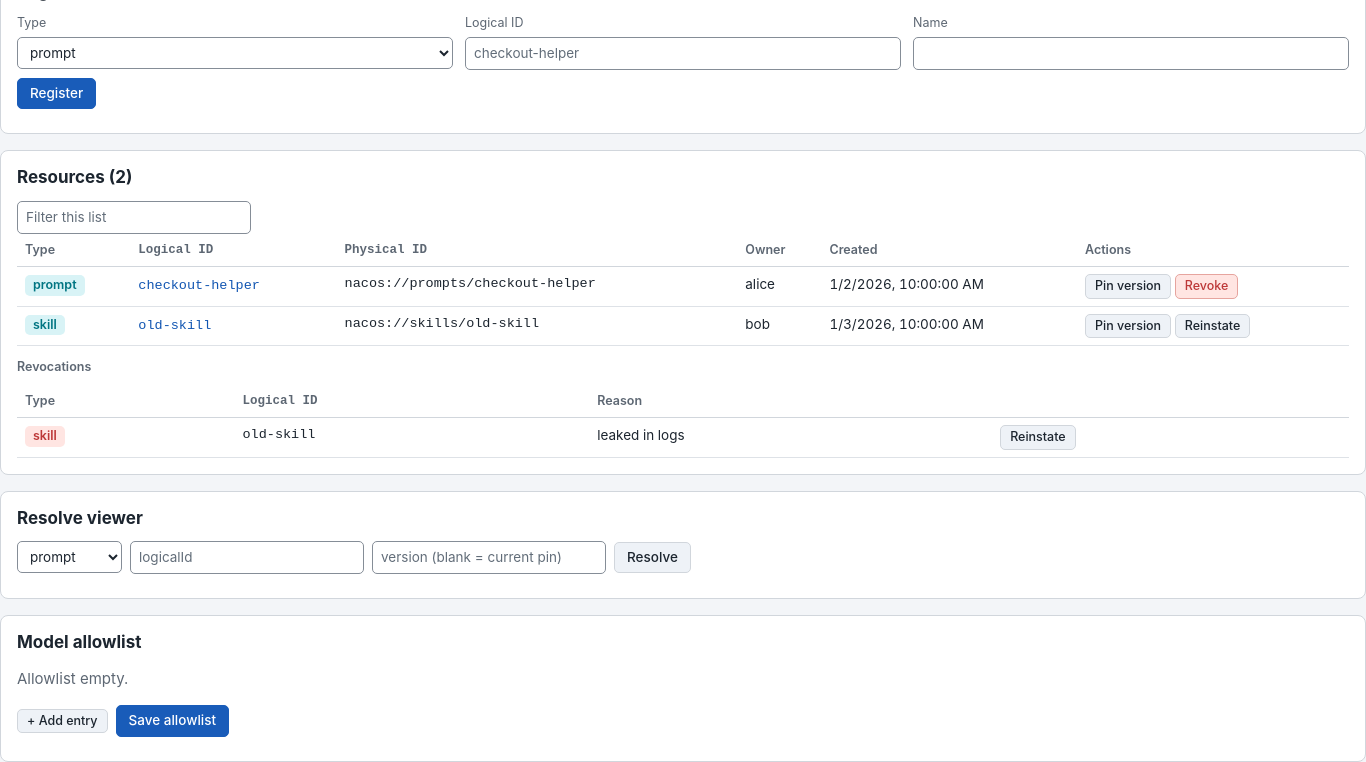
AiPage list › rejects a half-filled allowlist row without a PUT
The image size is (1366, 762).
(page scrolled)
Click the button "+ Add entry" at (62, 721), box [17,709,108,733]
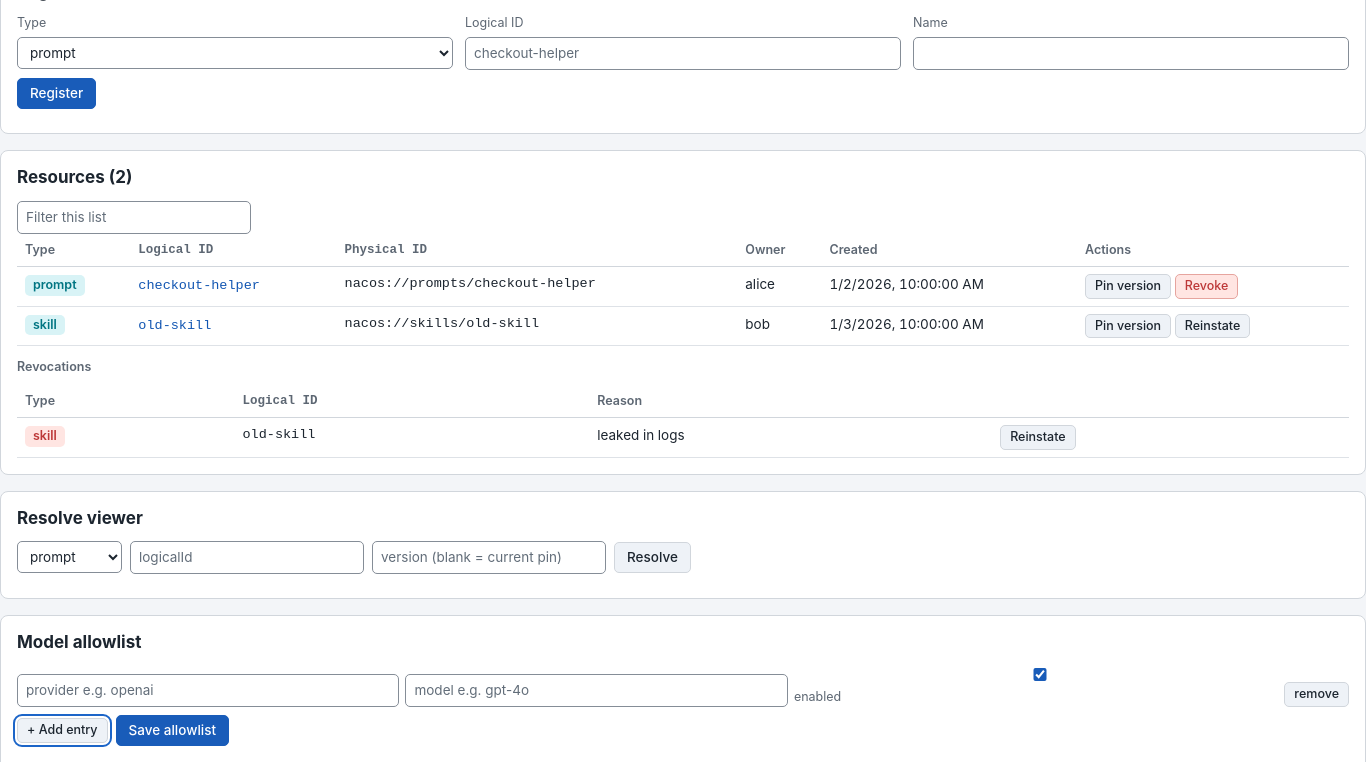
Type "openai" into the field with placeholder "provider e.g. openai" at (208, 690), box [17,674,400,707]
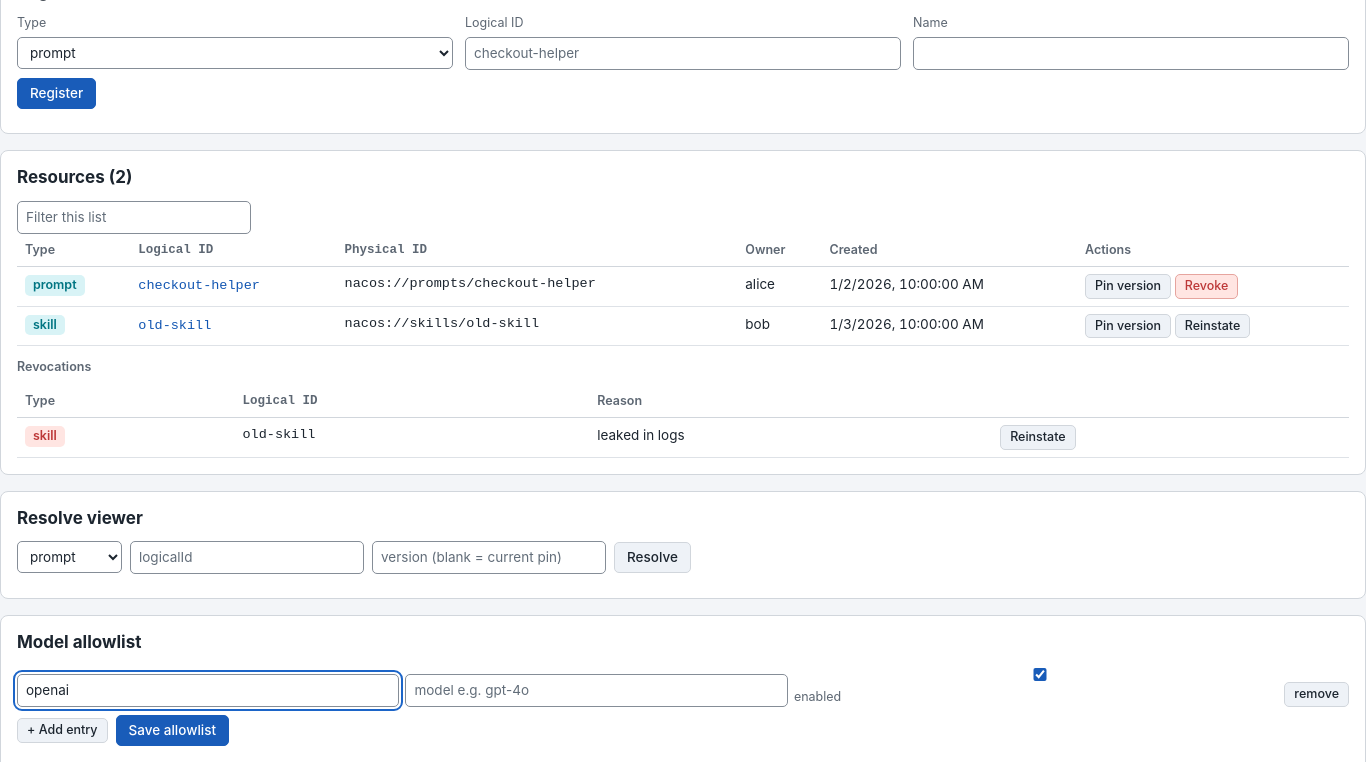
Click the button "Save allowlist" at (172, 730), box [116,715,229,746]
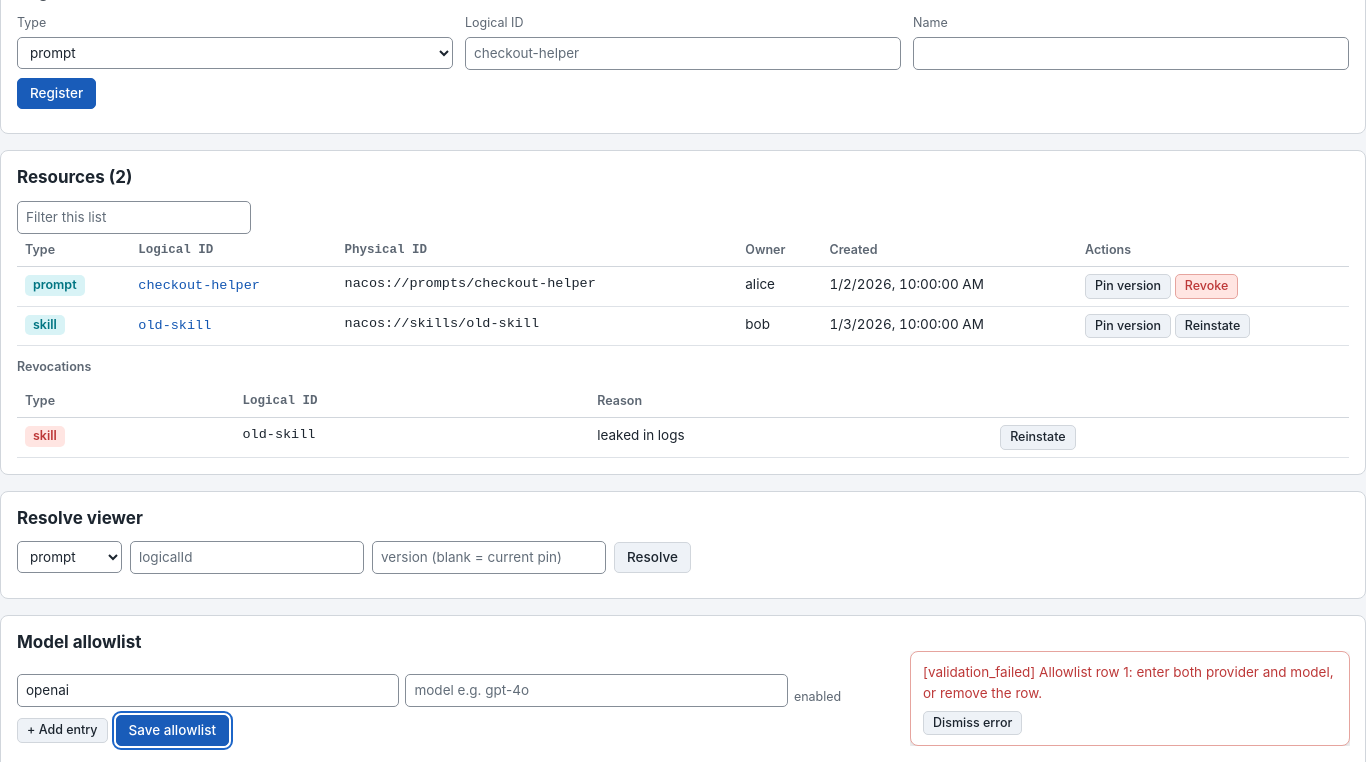
expect the text "Allowlist row 1" is shown: met, box [923,664,1334,701]
